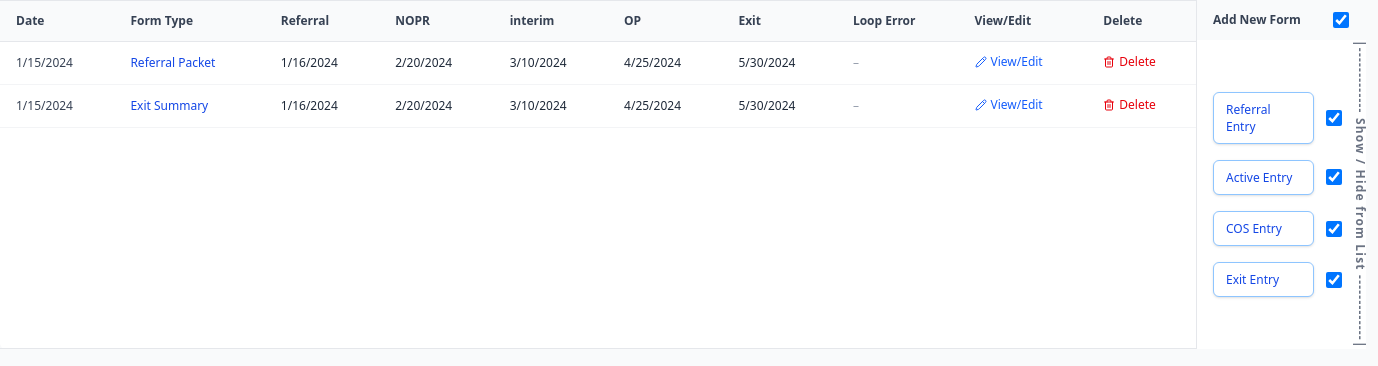
Scenario: check all hides and shows every form type
Expected: the text "Referral Packet" is shown, [130, 54, 215, 71]
Click the checkbox next to "Add New Form".
click(1341, 20)  # box [1333, 12, 1349, 28]
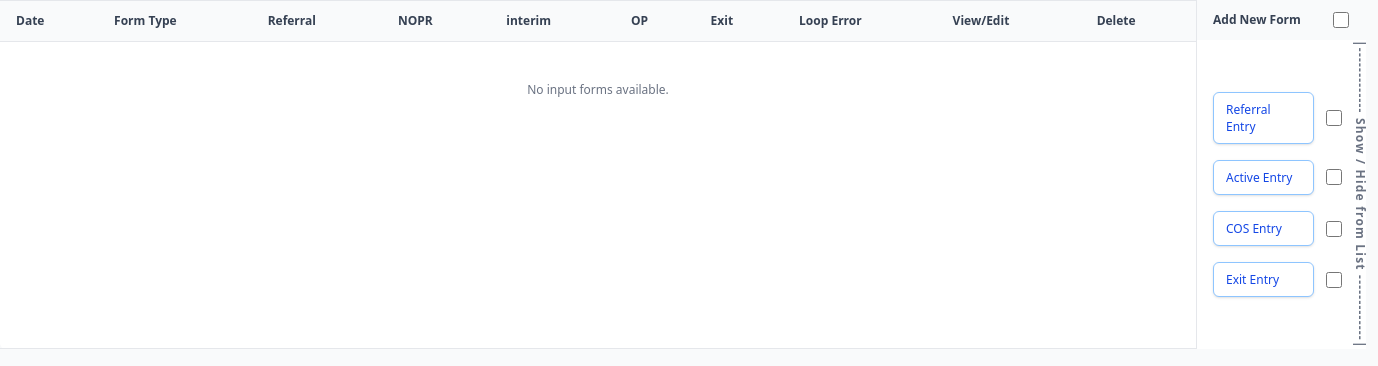
Now the 2nd checkbox is not checked, box [1326, 110, 1342, 126]
Click the checkbox next to "Add New Form".
click(1341, 20)  # box [1333, 12, 1349, 28]
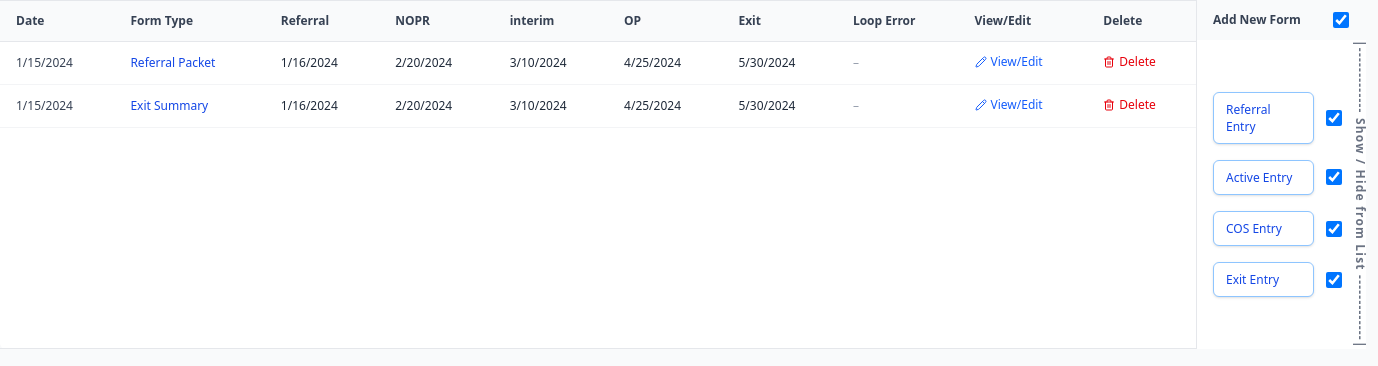
Now the text "Referral Packet" is shown, box [130, 54, 215, 71]
Now the text "Exit Summary" is shown, box [130, 97, 208, 114]
